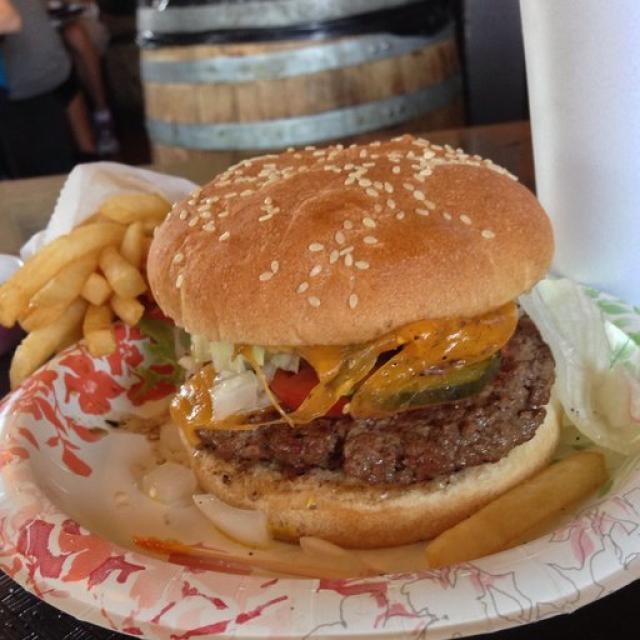burger: (160, 152, 570, 552)
